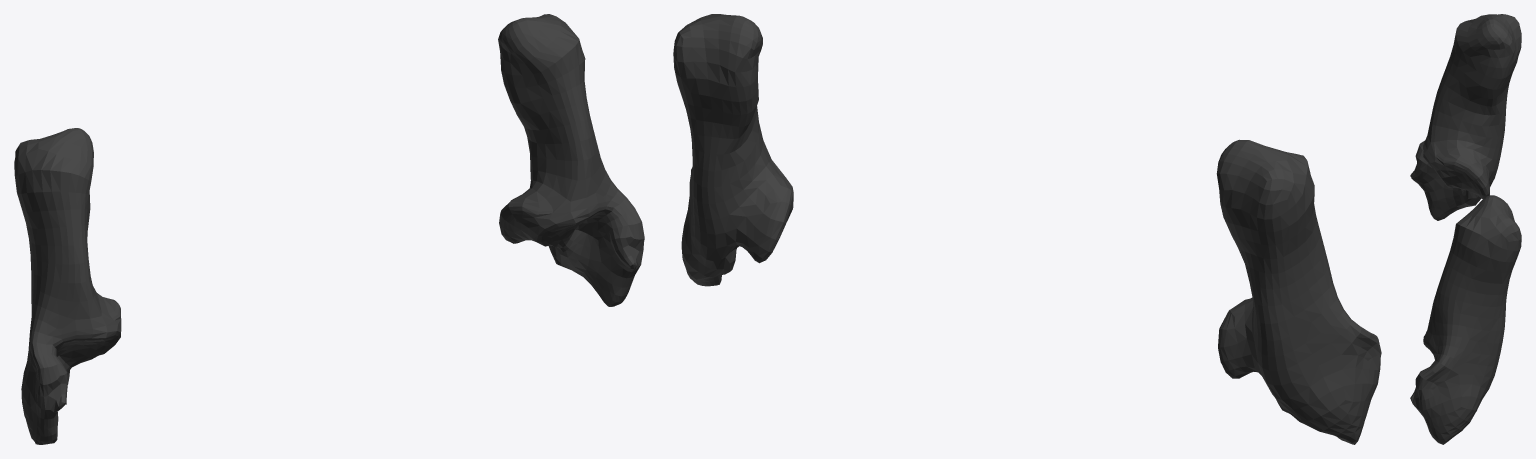
The model's file is b_calcaneus_L_LO.glb.
The picture shows the model from 3 angles, left to right: view 1: azimuth 30°, elevation 25°; view 2: azimuth 150°, elevation 25°; view 3: azimuth 270°, elevation 25°; orthographic projection. The views are drawn at different scales.
Visible parts, largest first — view 1: b_calcaneus_L_LO; view 2: b_calcaneus_L_LO; view 3: b_calcaneus_L_LO.
Boxes of the visible parts, box(x1,y1,x2,y2) form: b_calcaneus_L_LO: box(14, 14, 644, 444); b_calcaneus_L_LO: box(673, 14, 1381, 444); b_calcaneus_L_LO: box(1410, 14, 1521, 444).
Bounding box in the file's own units: 0.00372 × 0.00163 × 0.000742.
1 material, 1 textured.
